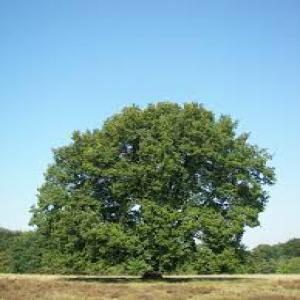Tree: (25, 98, 278, 282)
